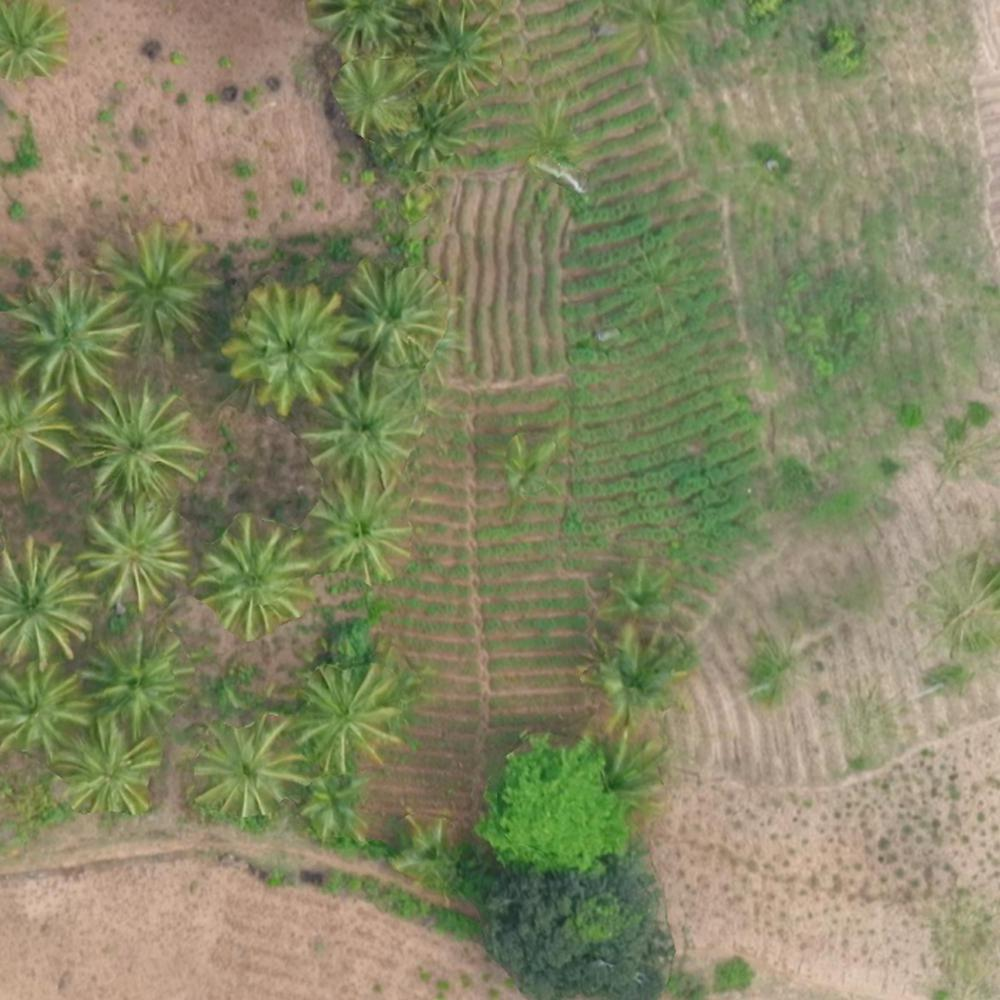Palm: (228, 286, 347, 402), (5, 276, 127, 385), (94, 228, 209, 339), (200, 523, 312, 633), (80, 388, 196, 492), (295, 661, 401, 769), (1, 536, 94, 659), (341, 258, 446, 363), (193, 721, 303, 821), (308, 371, 415, 473), (81, 499, 186, 602), (309, 481, 410, 578), (59, 721, 158, 819), (88, 634, 186, 726), (1, 665, 88, 757), (414, 6, 503, 92), (331, 54, 416, 133), (302, 773, 369, 842)
